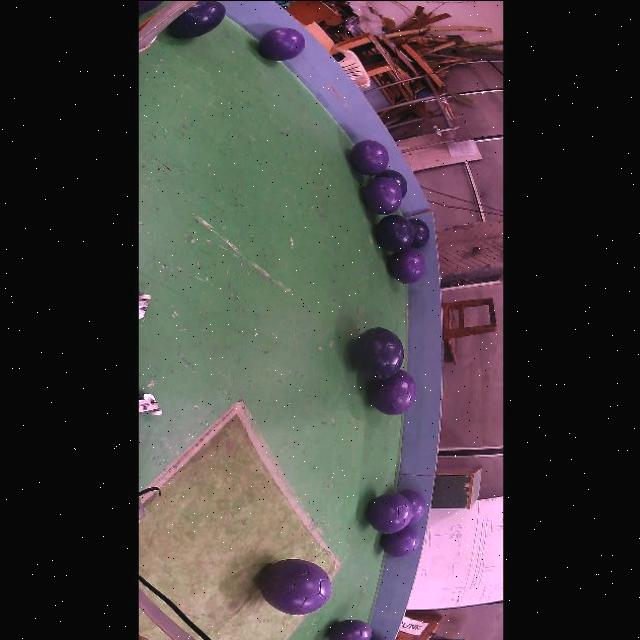B: (353, 327, 405, 378), (168, 0, 226, 38), (375, 214, 415, 251), (375, 168, 407, 196), (408, 218, 430, 248)
P: (260, 558, 331, 614), (369, 368, 417, 415), (368, 492, 412, 533), (363, 176, 402, 214), (259, 27, 305, 59), (350, 139, 389, 175), (389, 247, 426, 282), (381, 525, 420, 556), (398, 489, 426, 523), (329, 619, 372, 640)
